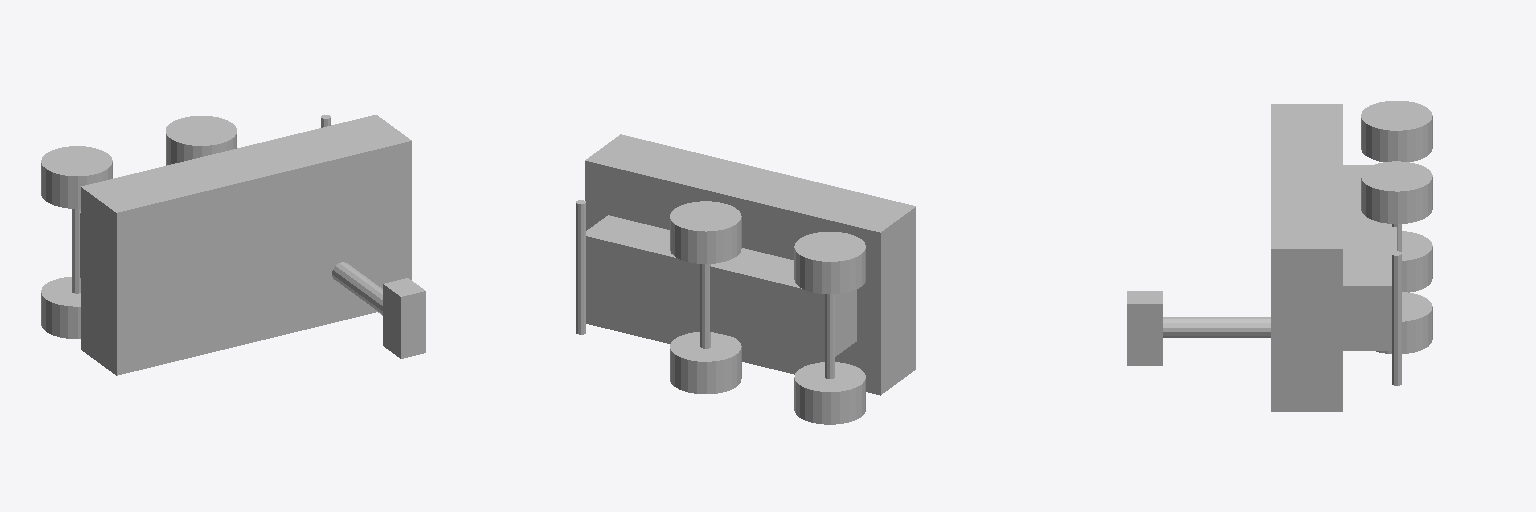
Rendered from corpsRobot.obj.
3 views of the same model, side by side, from view 1: azimuth 30°, elevation 25°; view 2: azimuth 150°, elevation 25°; view 3: azimuth 270°, elevation 25° (orthographic).
Visible parts, largest first — view 1: OpenSCAD_Model; view 2: OpenSCAD_Model; view 3: OpenSCAD_Model.
Part boxes in pixels (bbox=[...]): OpenSCAD_Model: bbox=[41, 115, 425, 375]; OpenSCAD_Model: bbox=[576, 134, 915, 424]; OpenSCAD_Model: bbox=[1127, 101, 1432, 411].
Size of the model in its own units: 195 by 100 by 170.